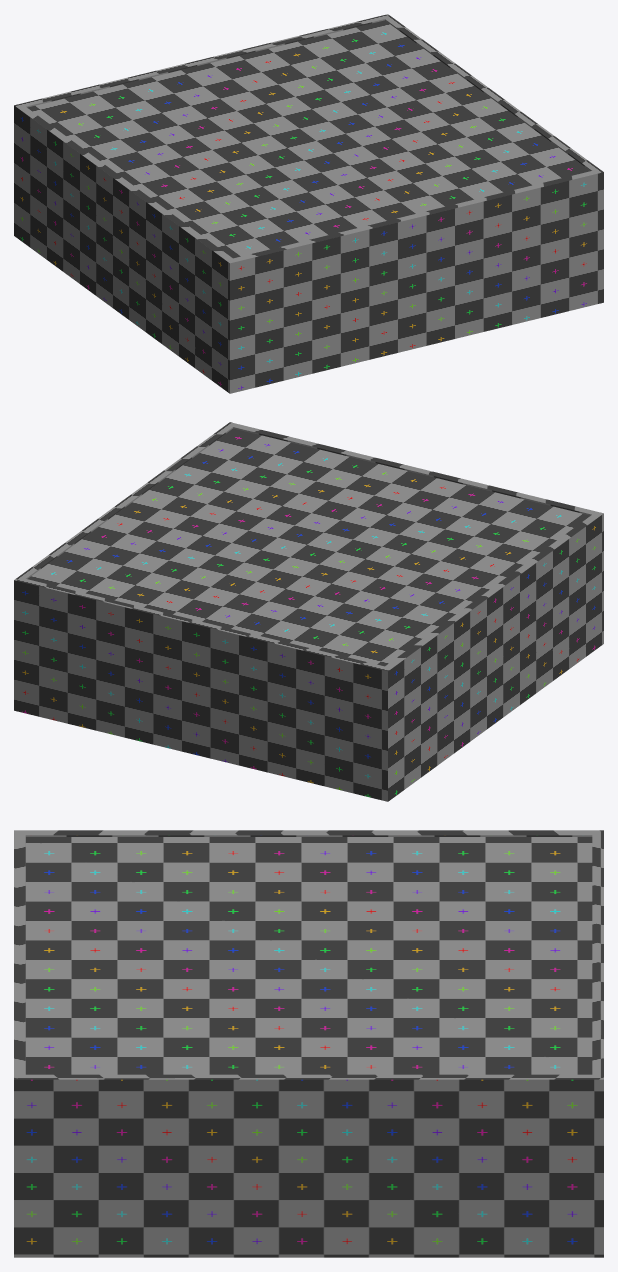
File: block-default.glb
The picture shows the model from 3 angles, top to bottom: view 1: azimuth 30°, elevation 25°; view 2: azimuth 150°, elevation 25°; view 3: azimuth 270°, elevation 25°; orthographic projection. The views are drawn at different scales.
Parts seen in each view (by area): view 1: SimpleBlock; view 2: SimpleBlock; view 3: SimpleBlock.
Part boxes in pixels (left/top/right/bottom): SimpleBlock: left=14, top=14, right=603, bottom=393; SimpleBlock: left=14, top=422, right=603, bottom=801; SimpleBlock: left=14, top=830, right=603, bottom=1257.
Bounding box in the file's own units: 60 × 20 × 60.
Materials: 1 (1 with a texture image).
